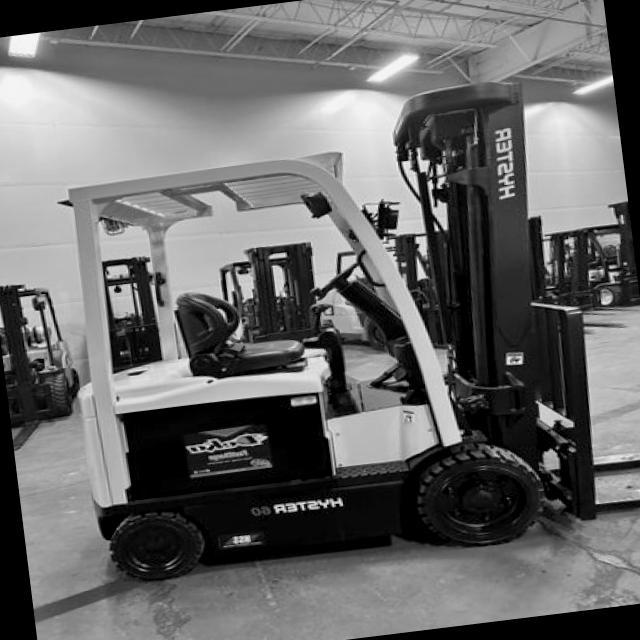forklift: (31, 56, 620, 640)
